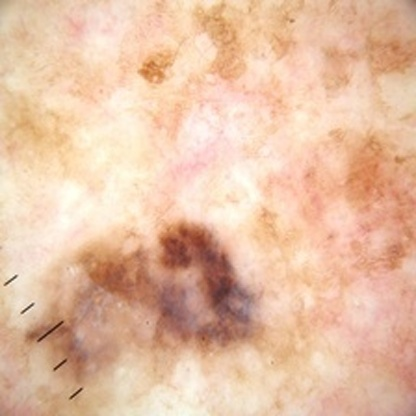malignant: (70, 219, 234, 376), (149, 9, 406, 101), (261, 131, 411, 283)
